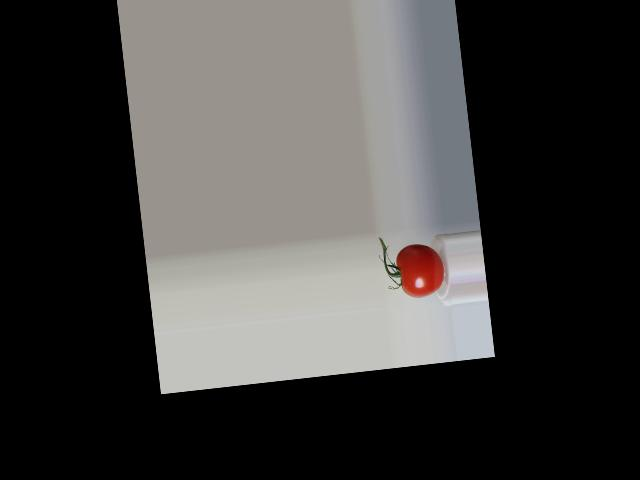tomato: (394, 241, 446, 299)
